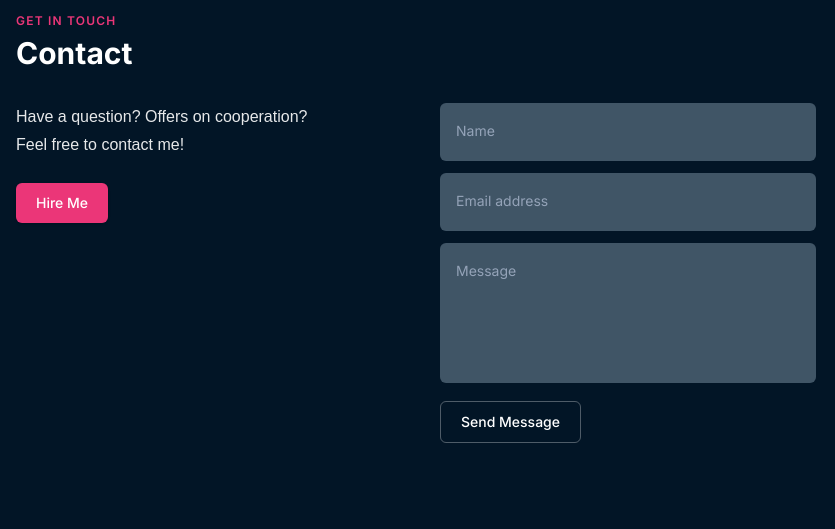
Test case: ContactSection › submits form successfully and resets inputs
This screenshot has width=835, height=529.
Type "John Doe" into the field labelled "Name" at point(628, 132), box [440,103,816,161]
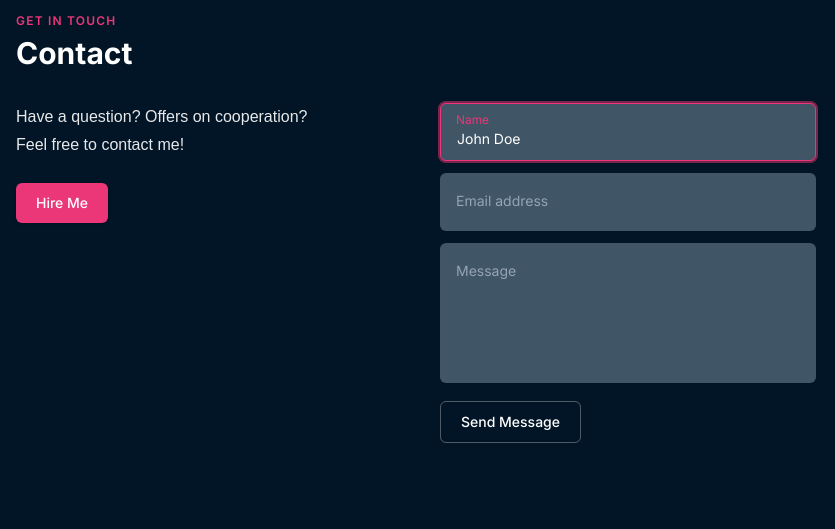
Type "john@example.com" into the field labelled "Email address" at point(628, 202), box [440,173,816,231]
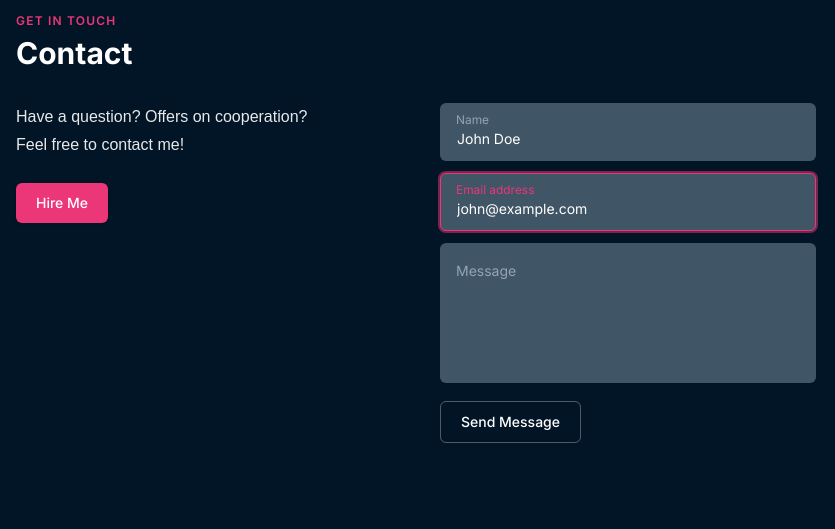
Type "Hello there!" into the text box labelled "Message" at point(628, 313), box [440,243,816,383]
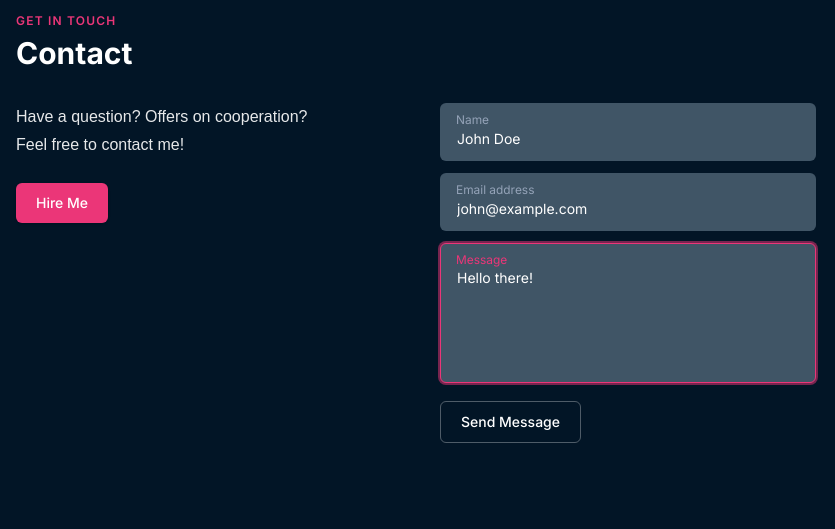
Click the button "Send Message" at point(510, 422), box [440,401,581,443]
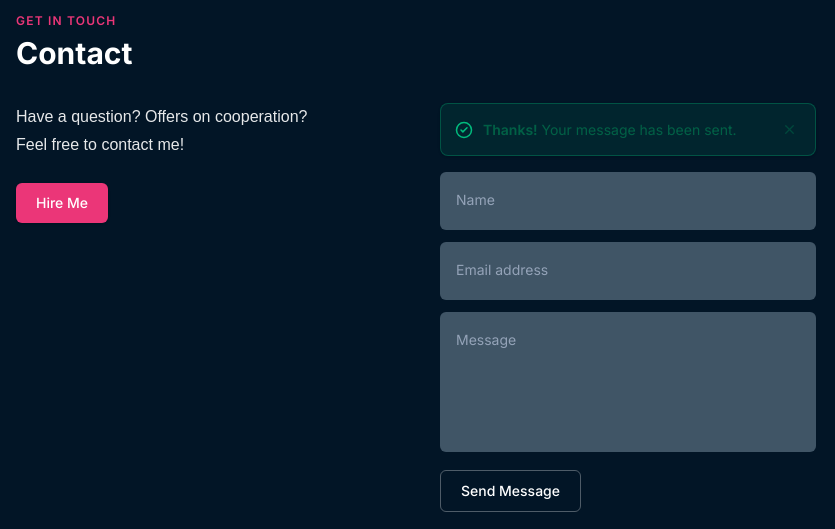
Expected: the text "Thanks! Your message has been sent." is shown, [483,120,737,140]
Expected: the field labelled "Name" is empty, [440,172,816,230]
Expected: the field labelled "Email address" is empty, [440,242,816,300]
